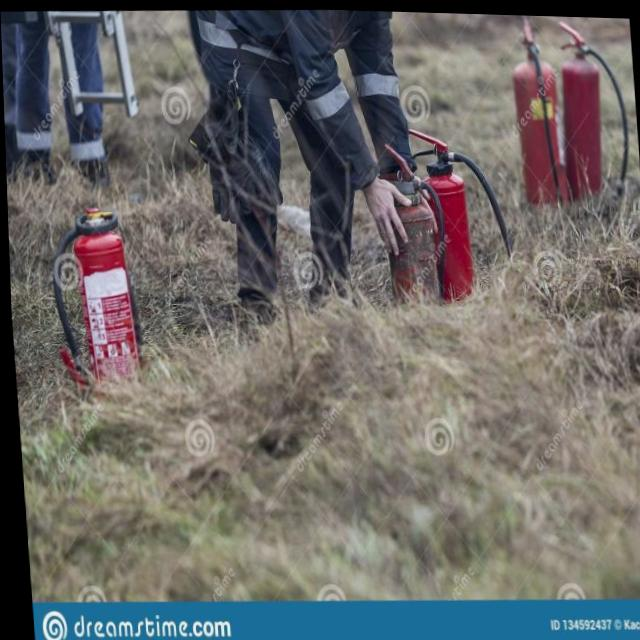FireExtinguisher: (401, 114, 531, 306), (42, 197, 152, 416), (369, 133, 457, 319), (552, 13, 634, 206), (499, 12, 569, 205)
